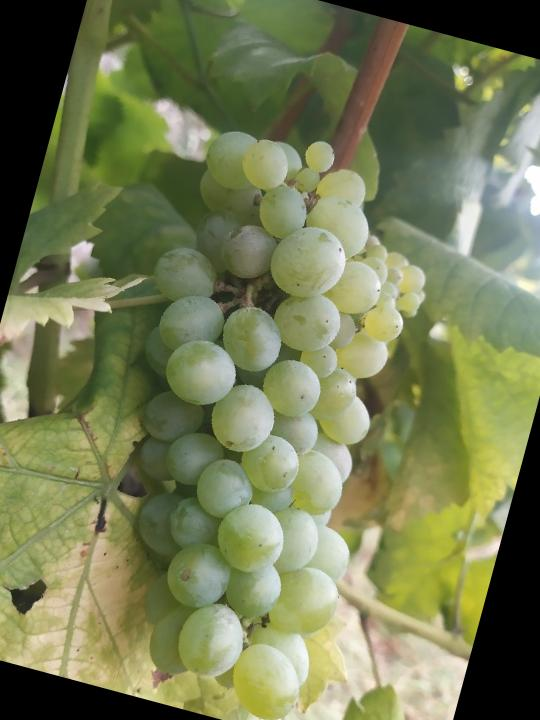grape: (47, 104, 462, 720)
